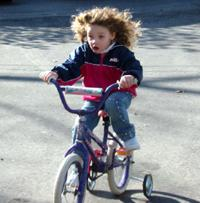person: (41, 8, 144, 188)
